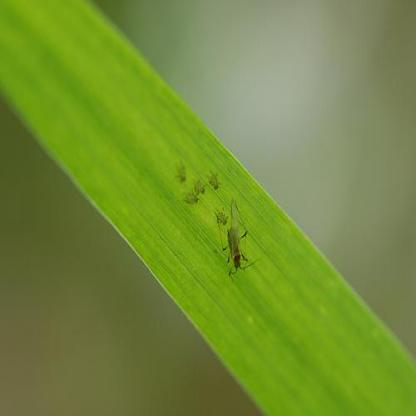aphid: (218, 214, 259, 274), (174, 159, 192, 185), (213, 205, 230, 225), (193, 176, 207, 200), (207, 170, 221, 192), (184, 190, 200, 205)
